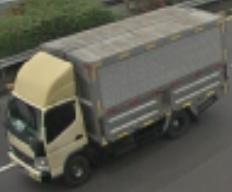truck: (1, 49, 97, 190)
